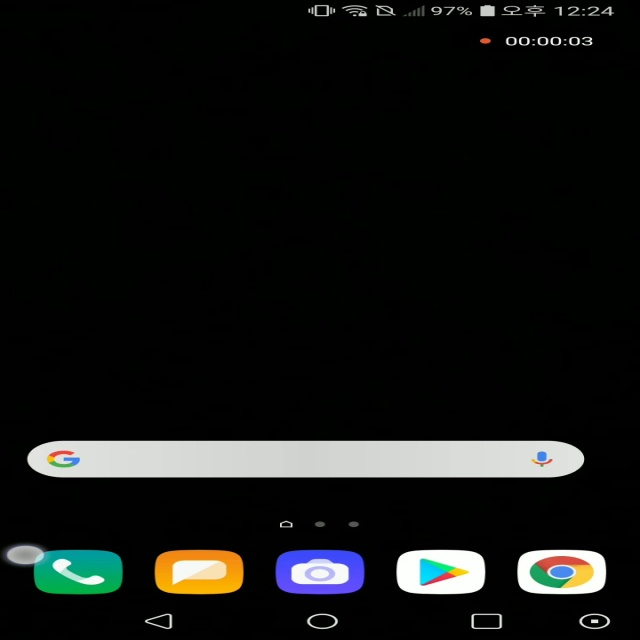Cursor: (3, 544, 48, 567)
